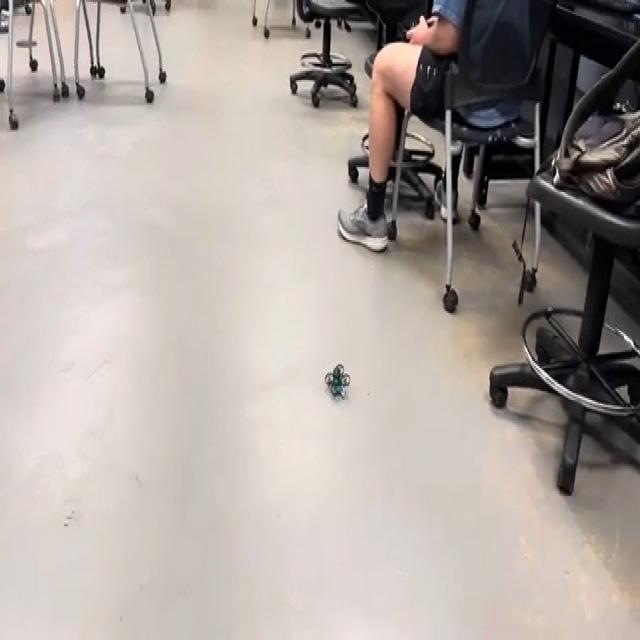drone: (314, 348, 359, 404)
